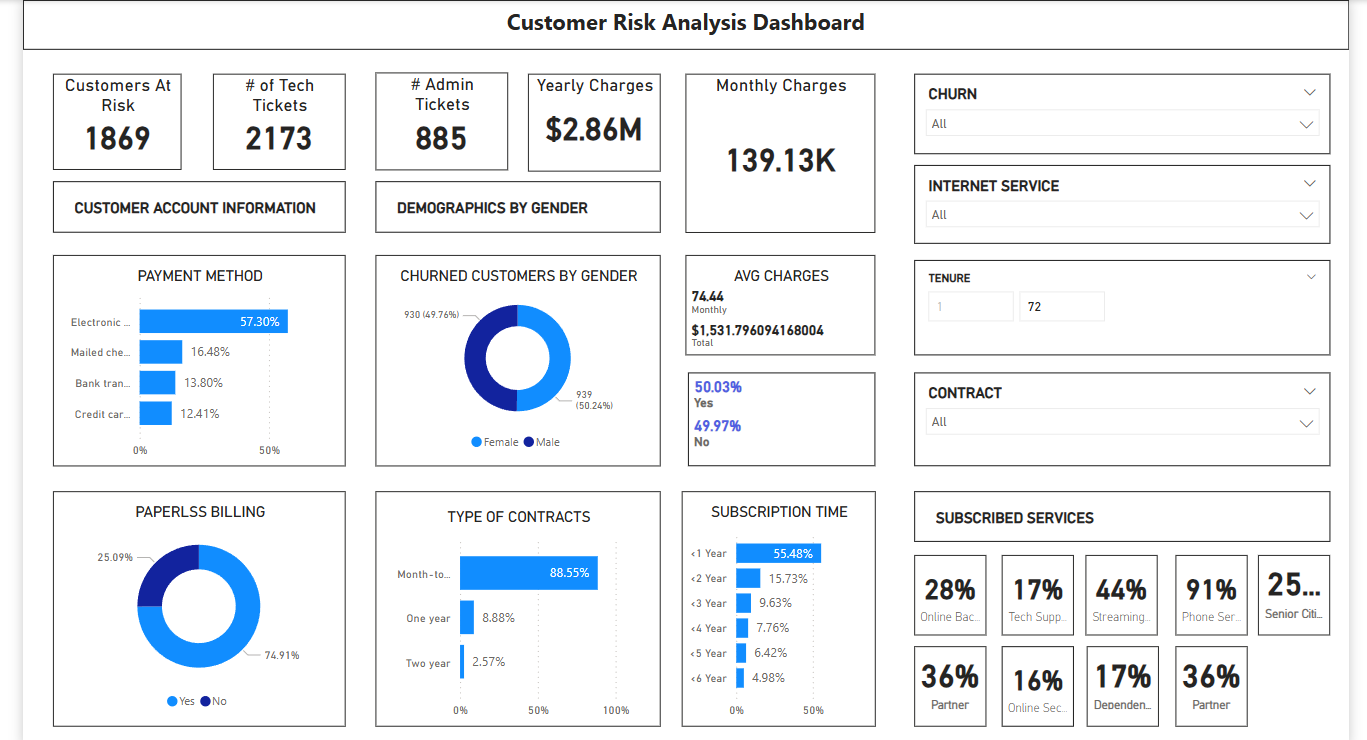

The dashboard page shown, as its layout file describes it:
{"tool":"powerbi","page":{"name":"Page 1","canvas":[1280,720],"ordinal":0},"visuals":[{"type":"card","title":"Customers At Risk","fields":{"Values":["CountNonNull(01 Churn-Dataset.customerID)"]},"box":[29,71.2,124.3,92.9],"z":0},{"type":"card","title":"# of Tech Tickets","fields":{"Values":["Sum(01 Churn-Dataset.numTechTickets)"]},"box":[183.4,71.2,127.9,92.9],"z":1000},{"type":"textbox","box":[29,174.9,282.3,49.5],"z":2000,"group":"g1"},{"type":"clusteredBarChart","title":"PAYMENT METHOD","fields":{"Y":["CountNonNull(Churn.PaymentMethod)"],"Category":["Churn.PaymentMethod"]},"box":[29,246.1,282.3,203.9],"z":2000},{"type":"textbox","box":[860.2,474.1,401.9,49],"z":2000,"group":"g2"},{"type":"card","title":"Yearly Charges","fields":{"Values":["Sum(01 Churn-Dataset.TotalCharges)"]},"box":[487.4,71.2,127.9,94.1],"z":3000},{"type":"card","title":"# Admin Tickets","fields":{"Values":["Sum(01 Churn-Dataset.numAdminTickets)"]},"box":[340.2,70,127.9,94.1],"z":4000},{"type":"card","title":"Monthly Charges","fields":{"Values":["Sum(01 Churn-Dataset.MonthlyCharges)"]},"box":[639.4,71.2,183.4,153.2],"z":5000},{"type":"donutChart","title":"PAPERLSS BILLING","fields":{"Category":["Churn.PaperlessBilling"],"Y":["CountNonNull(Churn.PaperlessBilling)"]},"box":[29,474.1,282.3,226.8],"z":6000},{"type":"multiRowCard","title":"AVG CHARGES","fields":{"Values":["Avg(Churn.MonthlyCharges)","Avg(Churn.TotalCharges)"]},"box":[639.4,246.1,183.4,96.5],"z":7000},{"type":"clusteredBarChart","title":"TYPE OF CONTRACTS","fields":{"Category":["Churn.Contract"],"Y":["CountNonNull(Churn.Contract)"]},"box":[340.2,474.1,275.1,226.8],"z":8000},{"type":"group","id":"g1","title":"Group 2","box":[29,174.9,282.3,49.5],"z":9000},{"type":"textbox","box":[0,0,1280,48.3],"z":10000},{"type":"group","id":"g2","title":"Group 2","box":[860.2,474.1,401.7,49.5],"z":11000},{"type":"card","fields":{"Values":["Churn.% Tech Support"]},"box":[944.6,535.7,70,77.2],"z":12000},{"type":"card","fields":{"Values":["Churn.% Streaming TV"]},"box":[1025.5,535.7,70,77.2],"z":13000},{"type":"card","fields":{"Values":["Churn.% Online Backup"]},"box":[860.2,535.7,70,77.2],"z":14000},{"type":"card","fields":{"Values":["Churn.% Online Sec"]},"box":[944.6,623.7,70,77.2],"z":15000},{"type":"card","fields":{"Values":["Churn.% of Dependents"]},"box":[1026.7,623.7,70,77.2],"z":16000},{"type":"card","fields":{"Values":["Churn.% of partner"]},"box":[860.2,623.7,70,77.2],"z":17000},{"type":"card","fields":{"Values":["Churn.% Phone Service"]},"box":[1112.3,535.7,70,77.2],"z":18000},{"type":"card","fields":{"Values":["Churn.% of Senior Citizen"]},"box":[1192,535.7,70,77.2],"z":19000},{"type":"card","fields":{"Values":["Churn.% of partner"]},"box":[1112.3,623.7,70,77.2],"z":20000},{"type":"clusteredBarChart","title":"SUBSCRIPTION TIME","fields":{"Y":["CountNonNull(Churn.Churn)"],"Category":["Churn.Tenure(in years)"]},"box":[635.8,474.1,187,226.8],"z":21000},{"type":"multiRowCard","fields":{"Values":["Churn.% Yes-Multiple Lines","Churn.% No-Multiple Lines"]},"box":[641.8,359.5,181,90.5],"z":22000},{"type":"textbox","box":[340.2,174.9,275.1,49.5],"z":23000},{"type":"donutChart","title":"CHURNED CUSTOMERS BY GENDER","fields":{"Category":["01 Churn-Dataset.gender"],"Y":["CountNonNull(01 Churn-Dataset.gender)"]},"box":[340.2,246.1,275.1,203.9],"z":24000},{"type":"slicer","fields":{"Values":["Churn.Churn"]},"box":[860.2,71.2,401.7,77.2],"z":25000},{"type":"slicer","fields":{"Values":["Churn.InternetService"]},"box":[860.2,159.3,401.7,76],"z":26000},{"type":"slicer","fields":{"Values":["Churn.tenure"]},"box":[860.2,250.9,401.7,91.7],"z":27000},{"type":"slicer","fields":{"Values":["Churn.Contract"]},"box":[860.2,359.5,401.7,90.5],"z":28000}]}

Visuals, with their boxes in screenshot pixels (x1, y1, x2, y2):
"Customers At Risk" card: [left=41, top=68, right=172, bottom=165]
"# of Tech Tickets" card: [left=204, top=68, right=338, bottom=165]
textbox: [left=41, top=177, right=338, bottom=229]
"PAYMENT METHOD" clusteredBarChart: [left=41, top=252, right=338, bottom=466]
textbox: [left=915, top=491, right=1338, bottom=543]
"Yearly Charges" card: [left=523, top=68, right=658, bottom=167]
"# Admin Tickets" card: [left=368, top=66, right=503, bottom=165]
"Monthly Charges" card: [left=683, top=68, right=876, bottom=229]
"PAPERLSS BILLING" donutChart: [left=41, top=491, right=338, bottom=730]
"AVG CHARGES" multiRowCard: [left=683, top=252, right=876, bottom=353]
"TYPE OF CONTRACTS" clusteredBarChart: [left=368, top=491, right=658, bottom=730]
"Group 2" group: [left=41, top=177, right=338, bottom=229]
textbox: [left=11, top=0, right=1357, bottom=44]
"Group 2" group: [left=915, top=491, right=1338, bottom=543]
card - Churn.% Tech Support: [left=1004, top=556, right=1078, bottom=637]
card - Churn.% Streaming TV: [left=1089, top=556, right=1163, bottom=637]
card - Churn.% Online Backup: [left=915, top=556, right=989, bottom=637]
card - Churn.% Online Sec: [left=1004, top=649, right=1078, bottom=730]
card - Churn.% of Dependents: [left=1090, top=649, right=1164, bottom=730]
card - Churn.% of partner: [left=915, top=649, right=989, bottom=730]
card - Churn.% Phone Service: [left=1180, top=556, right=1254, bottom=637]
card - Churn.% of Senior Citizen: [left=1264, top=556, right=1338, bottom=637]
card - Churn.% of partner: [left=1180, top=649, right=1254, bottom=730]
"SUBSCRIPTION TIME" clusteredBarChart: [left=679, top=491, right=876, bottom=730]
multiRowCard - Churn.% Yes-Multiple Lines x Churn.% No-Multiple Lines: [left=686, top=371, right=876, bottom=466]
textbox: [left=368, top=177, right=658, bottom=229]
"CHURNED CUSTOMERS BY GENDER" donutChart: [left=368, top=252, right=658, bottom=466]
slicer - Churn.Churn: [left=915, top=68, right=1338, bottom=149]
slicer - Churn.InternetService: [left=915, top=160, right=1338, bottom=240]
slicer - Churn.tenure: [left=915, top=257, right=1338, bottom=353]
slicer - Churn.Contract: [left=915, top=371, right=1338, bottom=466]
